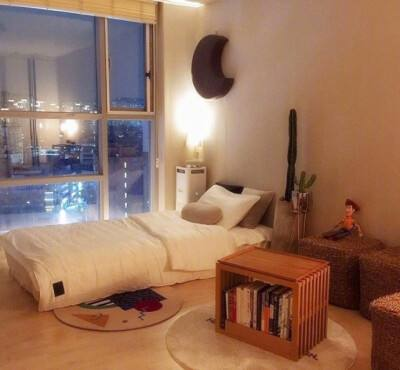床: (15, 213, 263, 314)
枕头: (181, 183, 266, 230)
灯: (171, 88, 216, 172)
